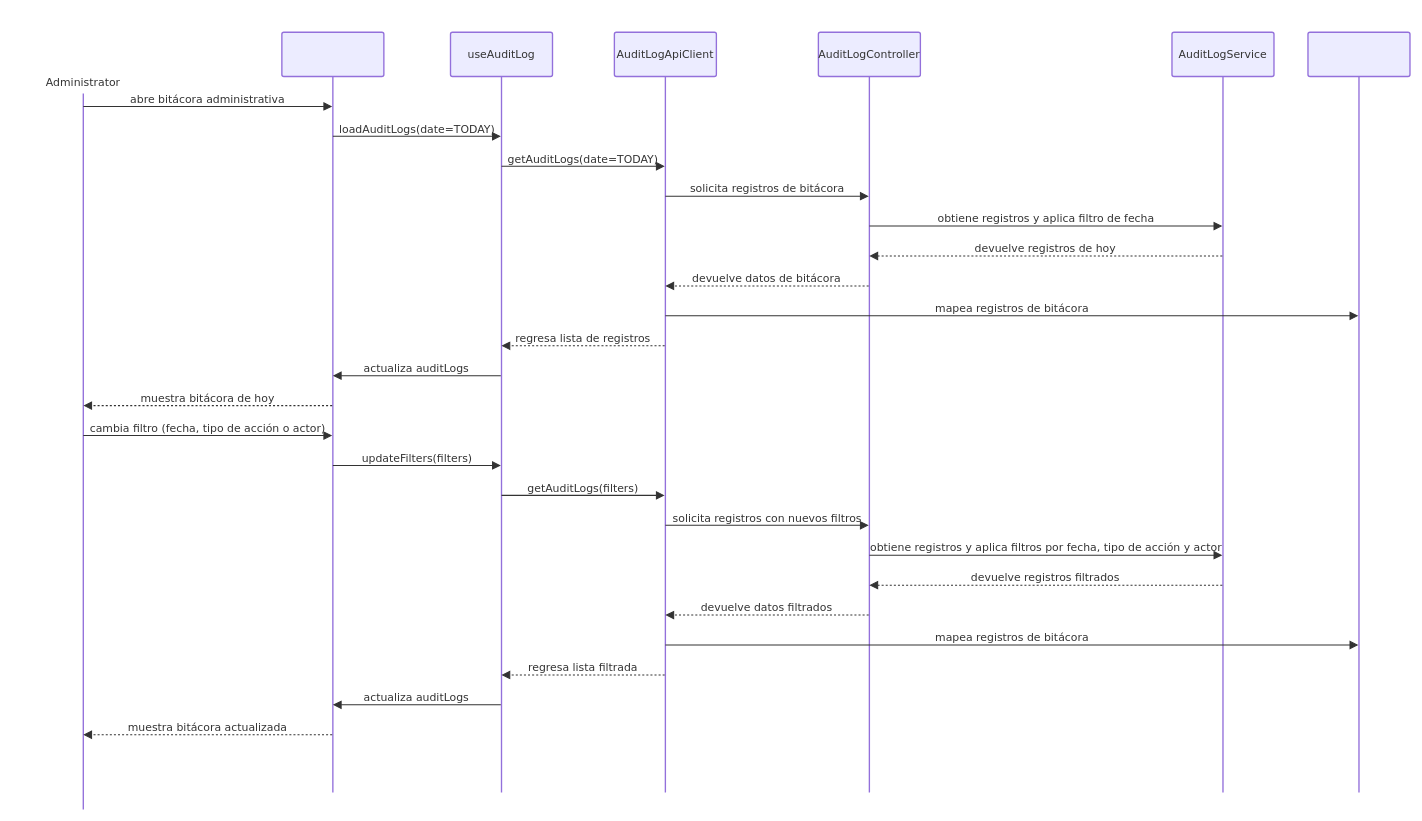
Image size: 1422x821. Some labels were removed from this diagram. The shapes that lost their labels are listed below. From the top down, each one's box as (x1, y1, x2, y2) in pixels, then its label:
(281, 31, 384, 793): AuditLogScreen
(1307, 31, 1410, 793): AuditLogVO
